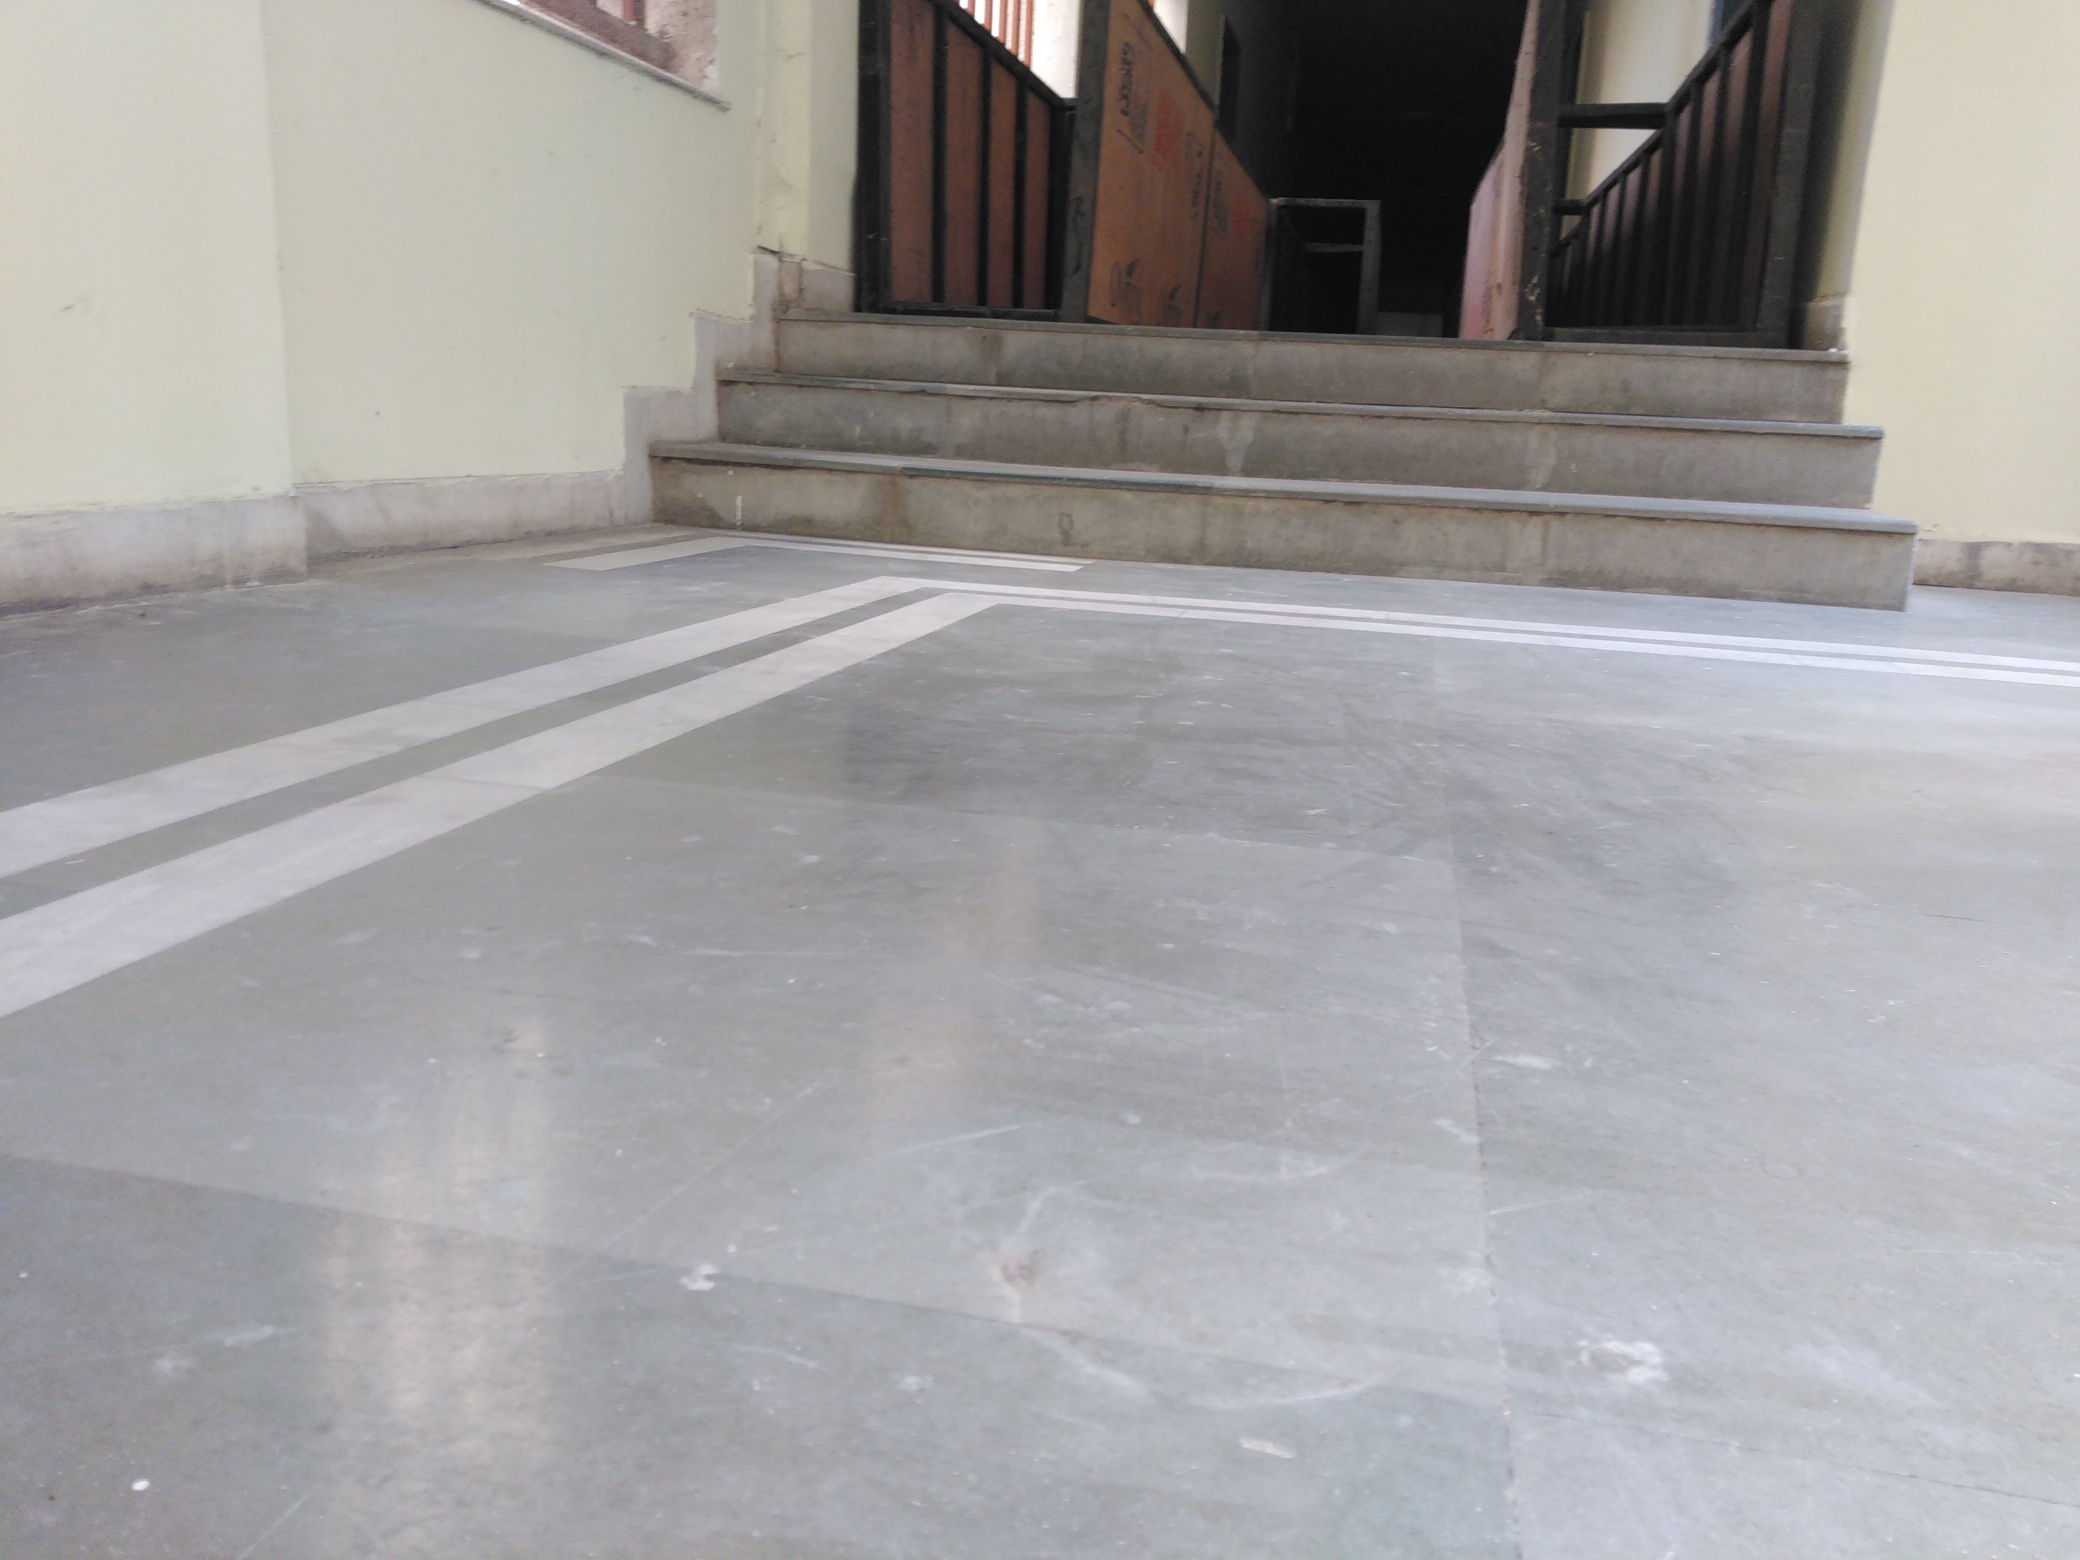stairs_up: (719, 316, 1941, 616)
